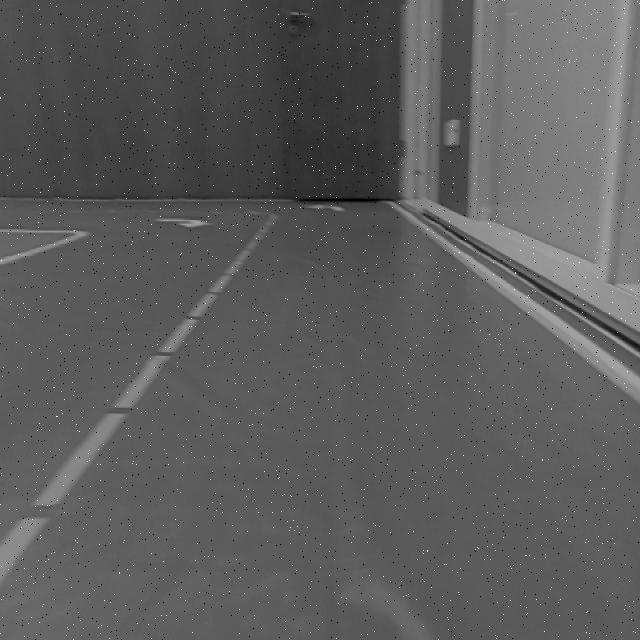left_lane: (0, 216, 276, 583)
right_lane: (396, 205, 640, 401)
